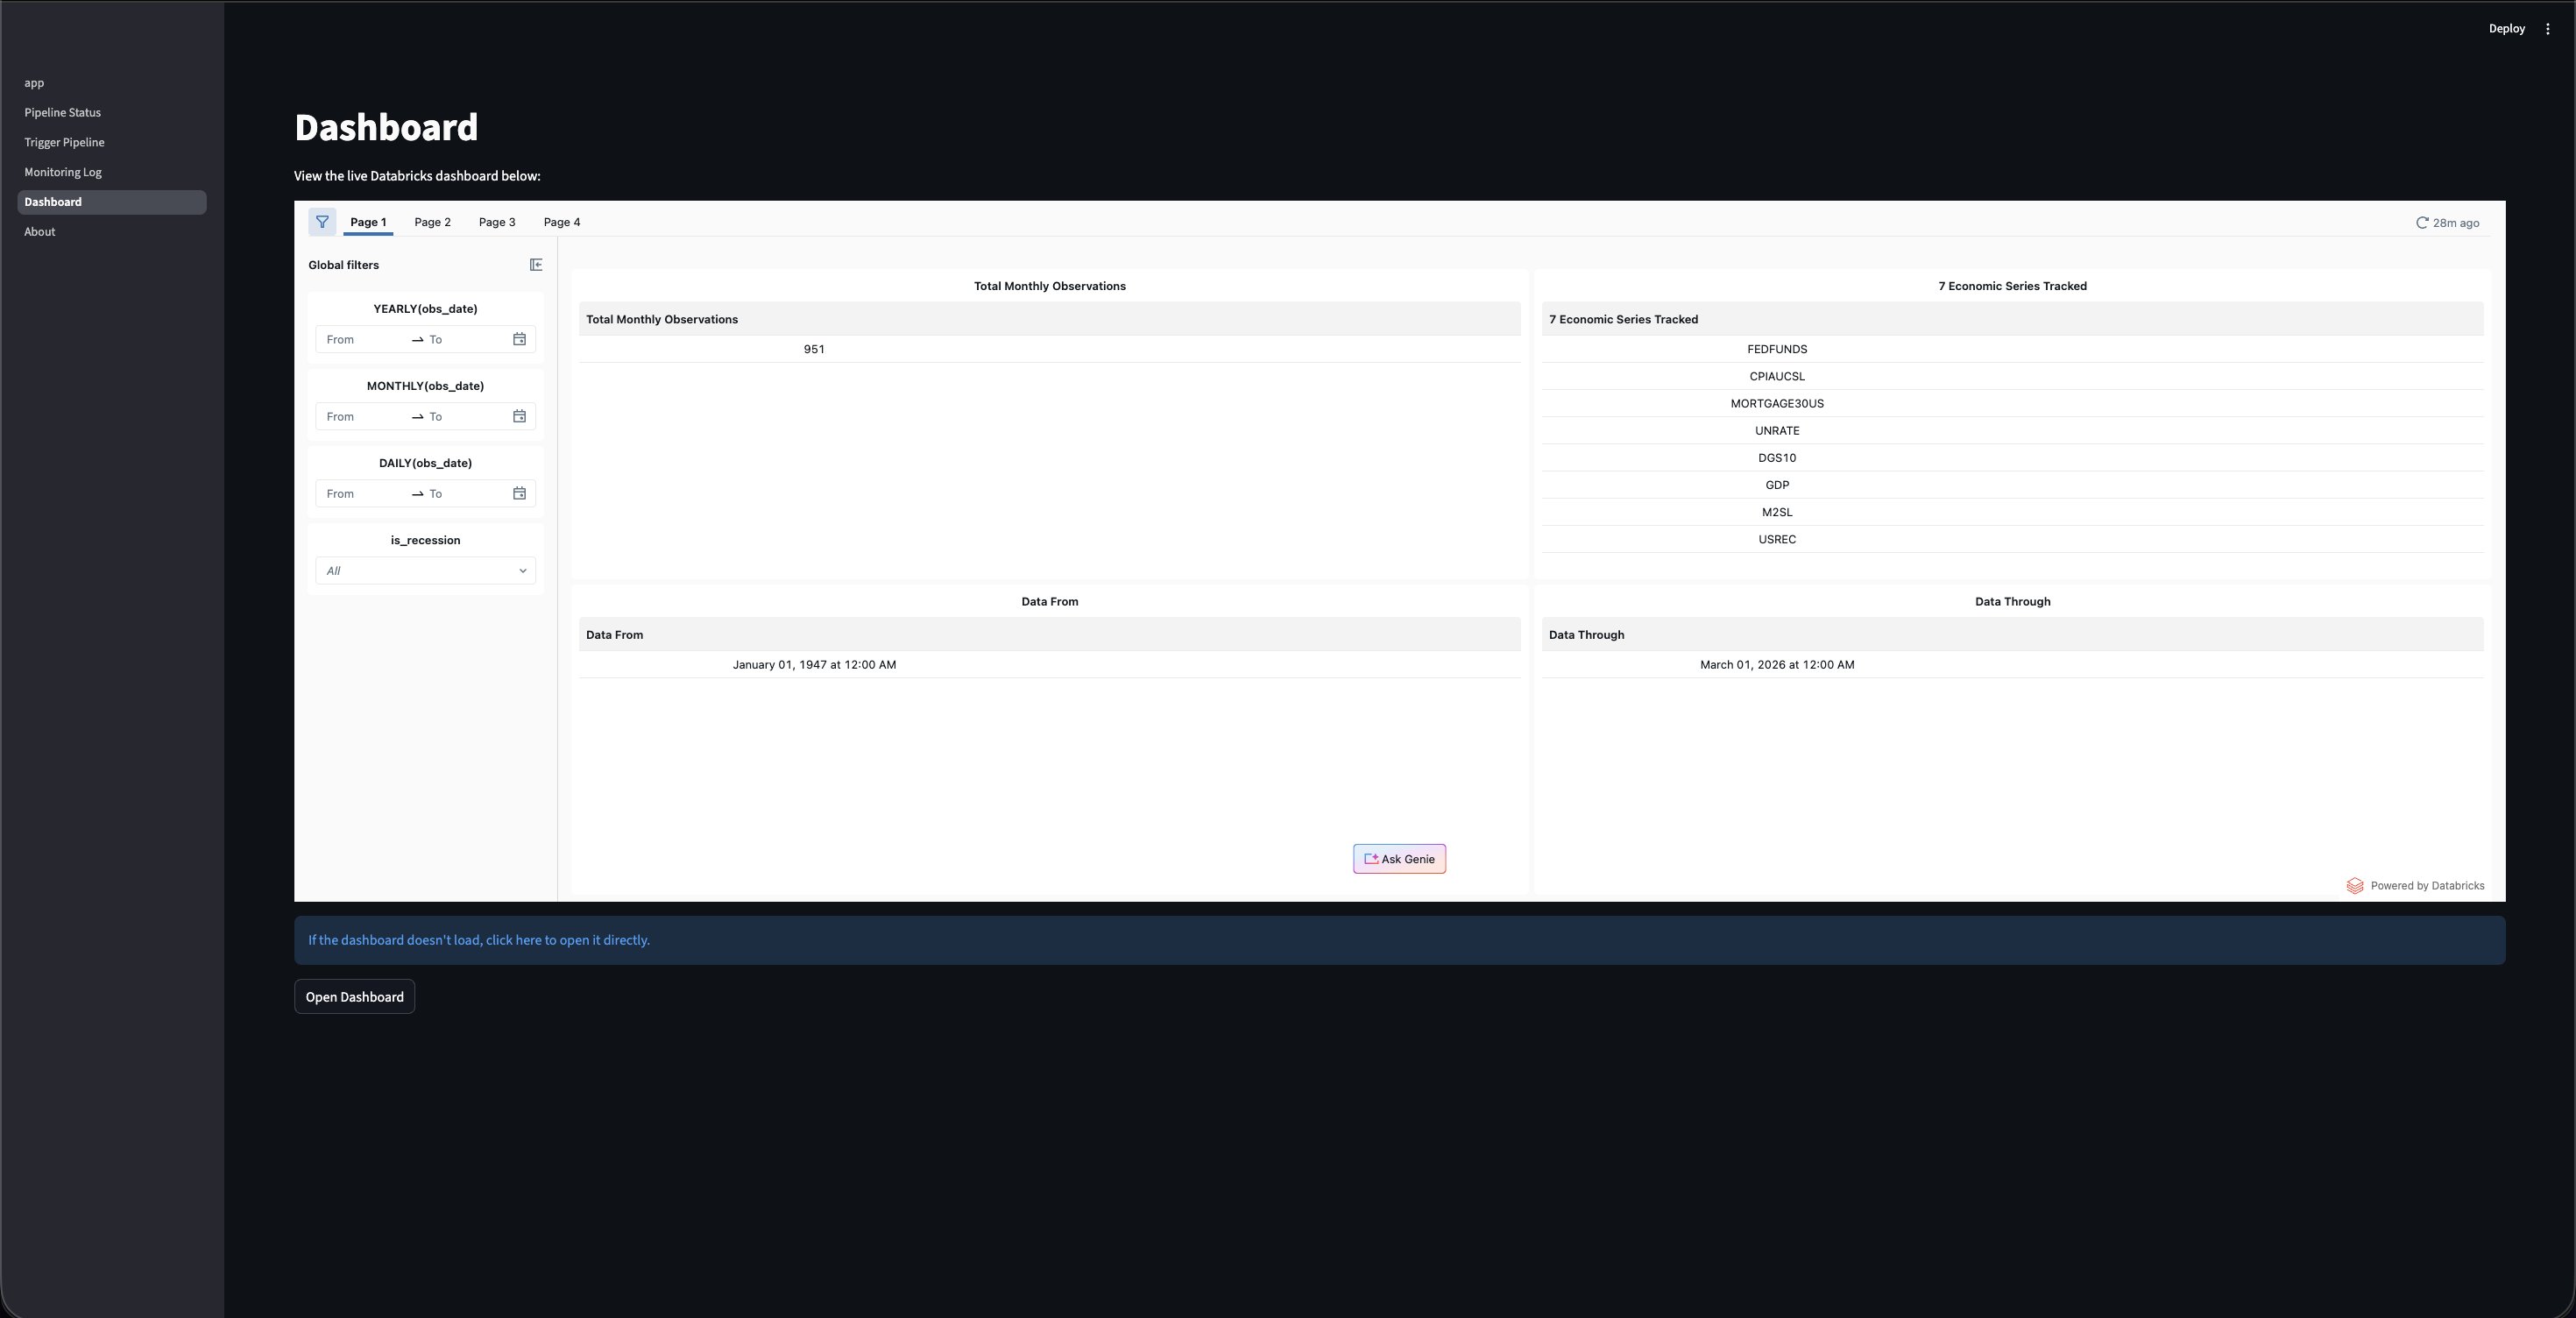

What the dashboard file says about the page in this screenshot:
{"tool":"powerbi","page":{"name":"Page 1","canvas":[1280,720],"ordinal":0},"visuals":[{"type":"cardVisual","title":"Total Monthly Observations","fields":{"Data":["Count(wide_macro_indicators.obs_date)"]},"box":[0,0,639.2,360.6],"z":0},{"type":"cardVisual","title":"Data Through","fields":{"Data":["Max(wide_macro_indicators.obs_date)"]},"box":[639.2,360,640.8,360],"z":1000},{"type":"cardVisual","title":"Data From","fields":{"Data":["Min(wide_macro_indicators.obs_date)"]},"box":[0,360,640.8,360],"z":2000},{"type":"tableEx","title":"7 Economic Series Tracked","fields":{"Values":["indicators.series_id"]},"box":[639,0,641,360],"z":3000}]}

Visuals, with their boxes on the page's 1280x720 design canvas (x1, y1, x2, y2). These are canvas units, not pixel positions in the 2576x1318 screenshot, which may show the page scaled, cropped or inside an application window:
"Total Monthly Observations" cardVisual: left=0, top=0, right=639, bottom=361
"Data Through" cardVisual: left=639, top=360, right=1280, bottom=720
"Data From" cardVisual: left=0, top=360, right=641, bottom=720
"7 Economic Series Tracked" tableEx: left=639, top=0, right=1280, bottom=360
